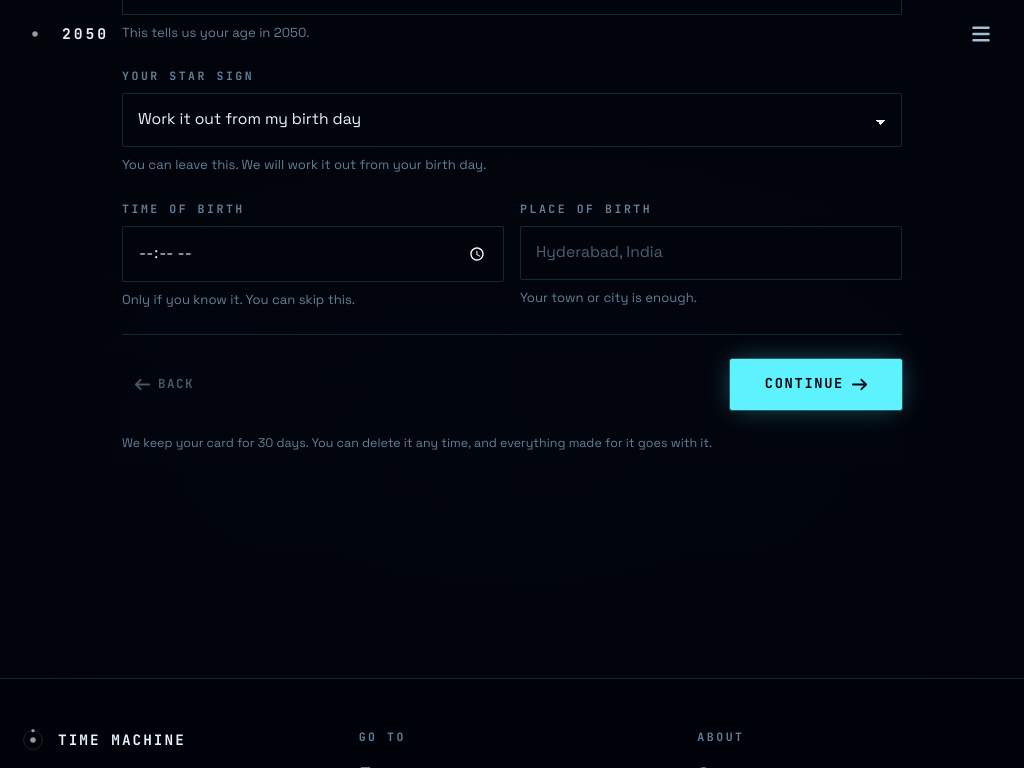
2050 wizard › requires a date of birth and shows the 2050 age once given
This screenshot has width=1024, height=768.
(page scrolled)
Click the button "Continue" at (816, 384), box x1=730 y1=359 x2=902 y2=410
(page scrolled)
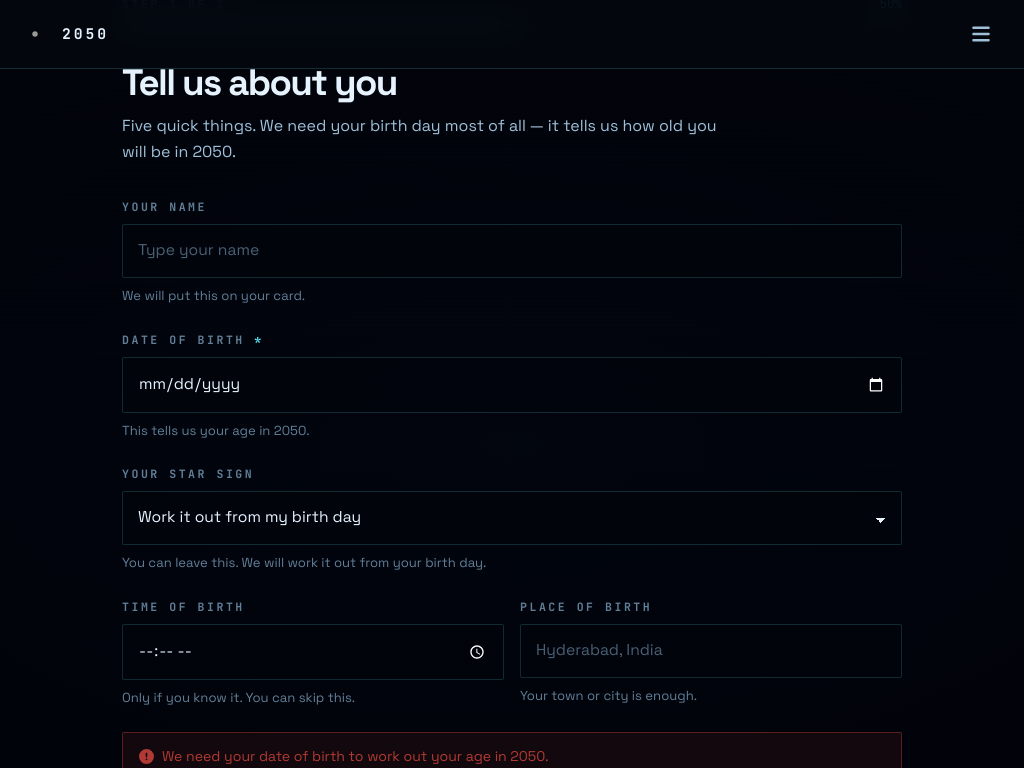
Check: the message shows "We need your date of birth", box x1=162 y1=747 x2=549 y2=765
Type "1996-10-31" into the date field labelled "Date of birth *" at (512, 385), box x1=122 y1=357 x2=902 y2=413
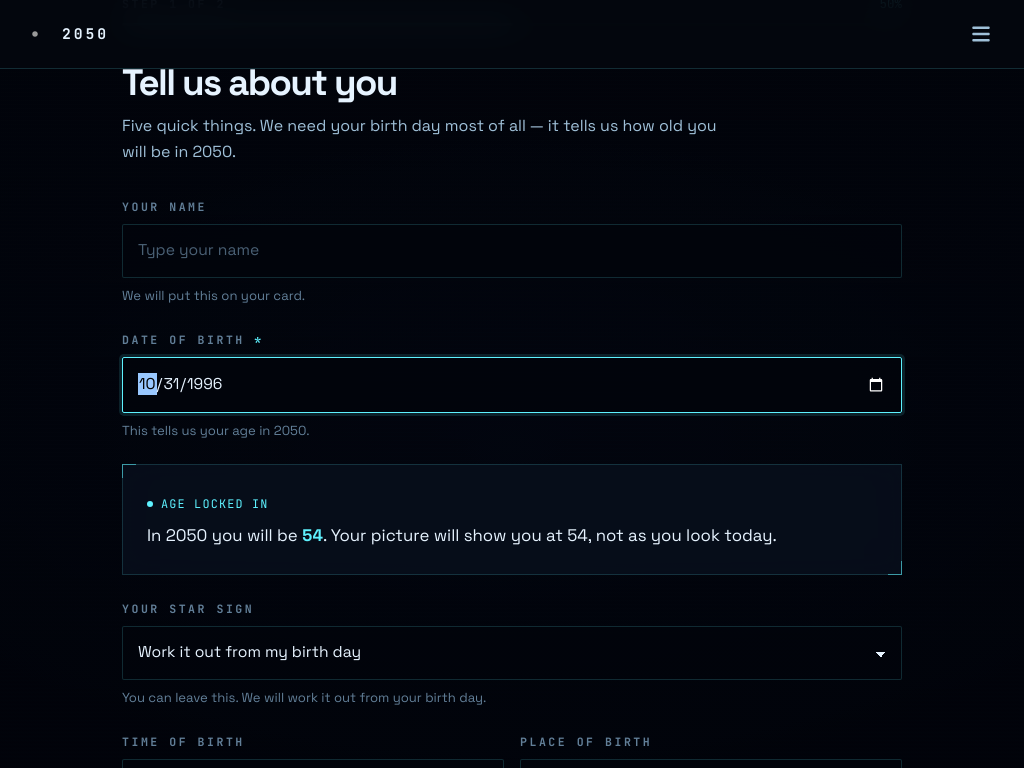
Check: the text "Age locked in" is shown, box x1=147 y1=495 x2=269 y2=514
Check: the text "54" is shown, box x1=302 y1=524 x2=323 y2=546
Check: the text "show you at 54, not as you look today" is shown, box x1=147 y1=522 x2=877 y2=550
